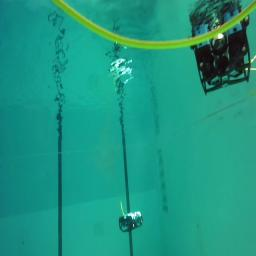Side: (119, 211, 143, 232)
front: (190, 7, 252, 94)
